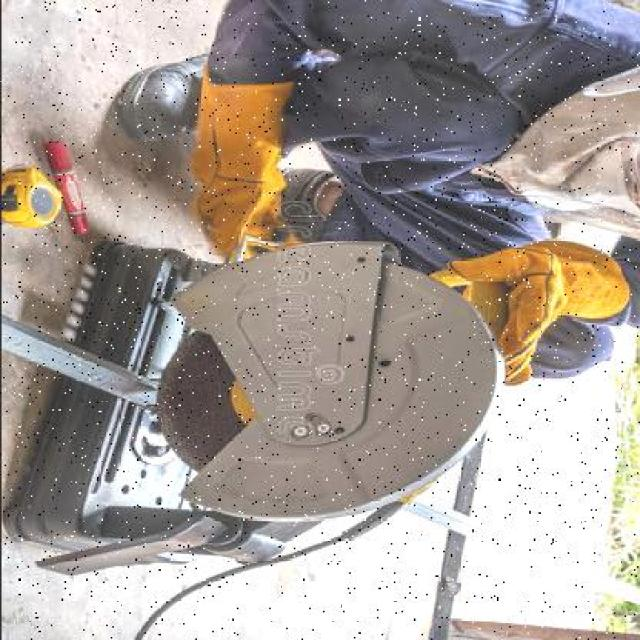shoes: (115, 52, 219, 146)
